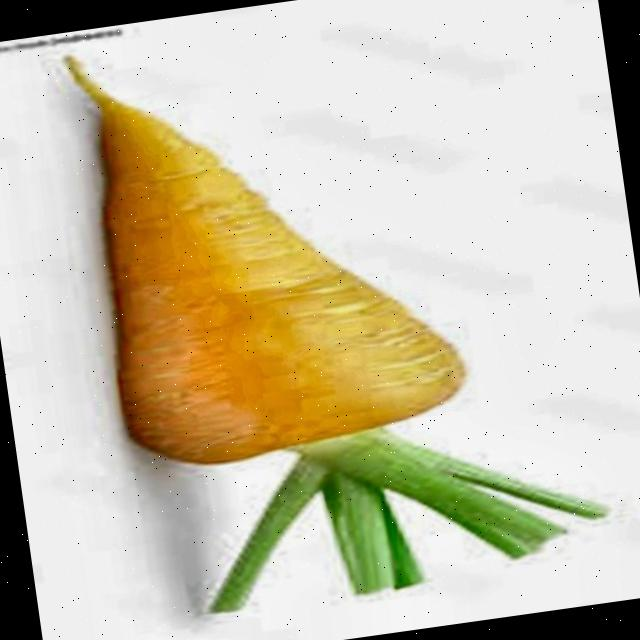carrot: (65, 57, 605, 614)
